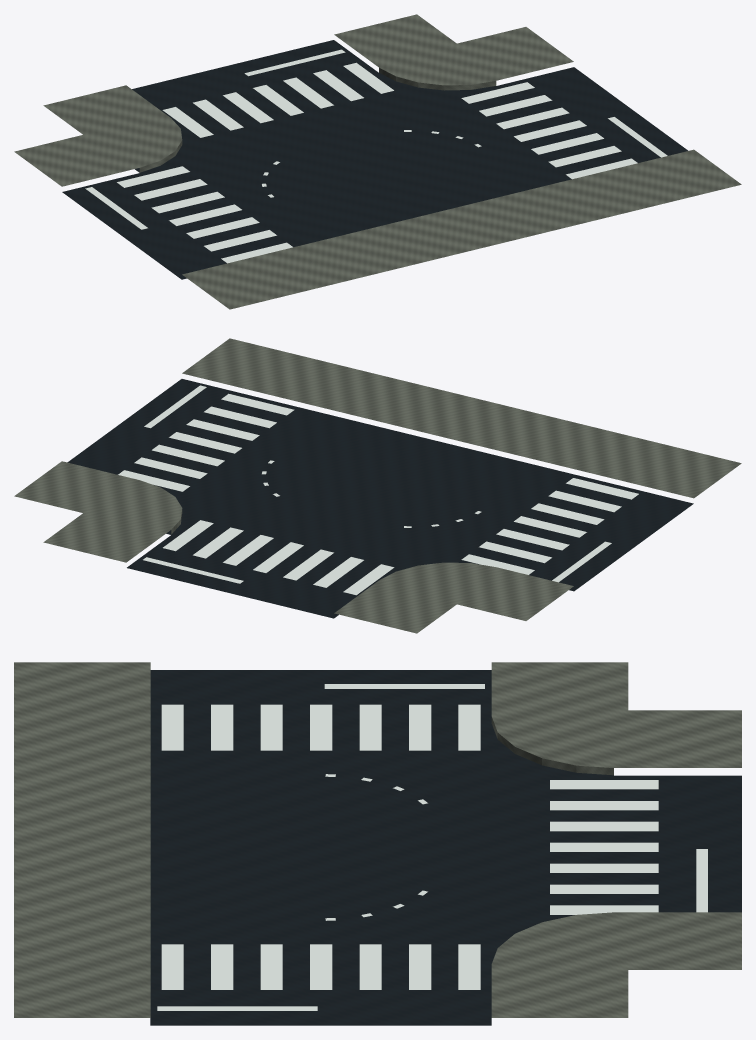
The model's file is junc_tee_2x2_LOD1.glb.
3 renders of one model, top to bottom at view 1: azimuth 30°, elevation 25°; view 2: azimuth 150°, elevation 25°; view 3: azimuth 270°, elevation 25°, orthographic. The views are drawn at different scales.
Parts seen in each view (by area): view 1: junc_tee_2x2__surface.001, junc_tee_2x2__rounded_corner_curb.001, junc_tee_2x2__crosswalk_paint.001, junc_tee_2x2__stop_line_paint.001; view 2: junc_tee_2x2__surface.001, junc_tee_2x2__rounded_corner_curb.001, junc_tee_2x2__crosswalk_paint.001, junc_tee_2x2__stop_line_paint.001; view 3: junc_tee_2x2__surface.001, junc_tee_2x2__rounded_corner_curb.001, junc_tee_2x2__crosswalk_paint.001, junc_tee_2x2__stop_line_paint.001.
Part boxes in pixels (box(x1,y1,x2,y2)): junc_tee_2x2__surface.001: box(62, 40, 688, 279); junc_tee_2x2__rounded_corner_curb.001: box(14, 14, 741, 309); junc_tee_2x2__crosswalk_paint.001: box(117, 62, 637, 263); junc_tee_2x2__stop_line_paint.001: box(85, 49, 667, 229); junc_tee_2x2__surface.001: box(67, 379, 693, 618); junc_tee_2x2__rounded_corner_curb.001: box(14, 338, 741, 633); junc_tee_2x2__crosswalk_paint.001: box(118, 393, 638, 595); junc_tee_2x2__stop_line_paint.001: box(143, 385, 611, 583); junc_tee_2x2__surface.001: box(150, 670, 741, 1025); junc_tee_2x2__rounded_corner_curb.001: box(14, 662, 741, 1017); junc_tee_2x2__crosswalk_paint.001: box(161, 704, 658, 989); junc_tee_2x2__stop_line_paint.001: box(157, 684, 707, 1010).
Bounding box in the file's own units: 14.8 × 0.145 × 12.8.
4 materials, 3 textured.
